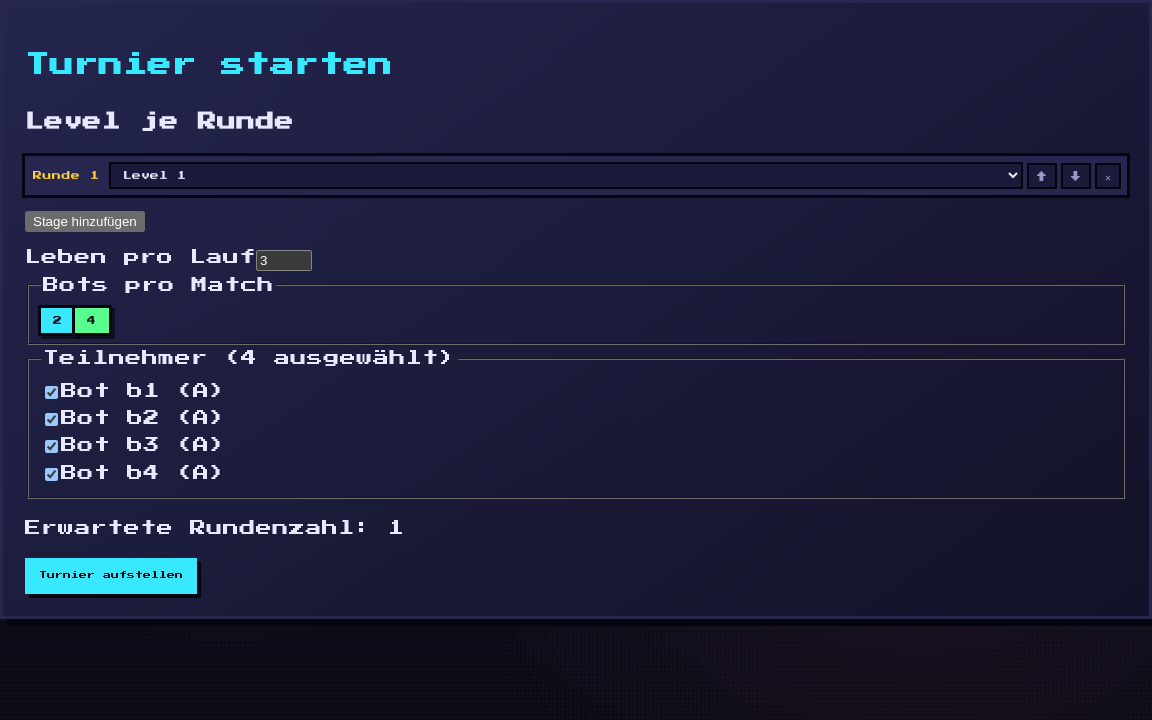
Scenario: TournamentSetup › updates the expected round count when the group size changes
The width and height of the screenshot is (1152, 720).
Click the button "2". click: [58, 321]
box: [41, 308, 75, 333]
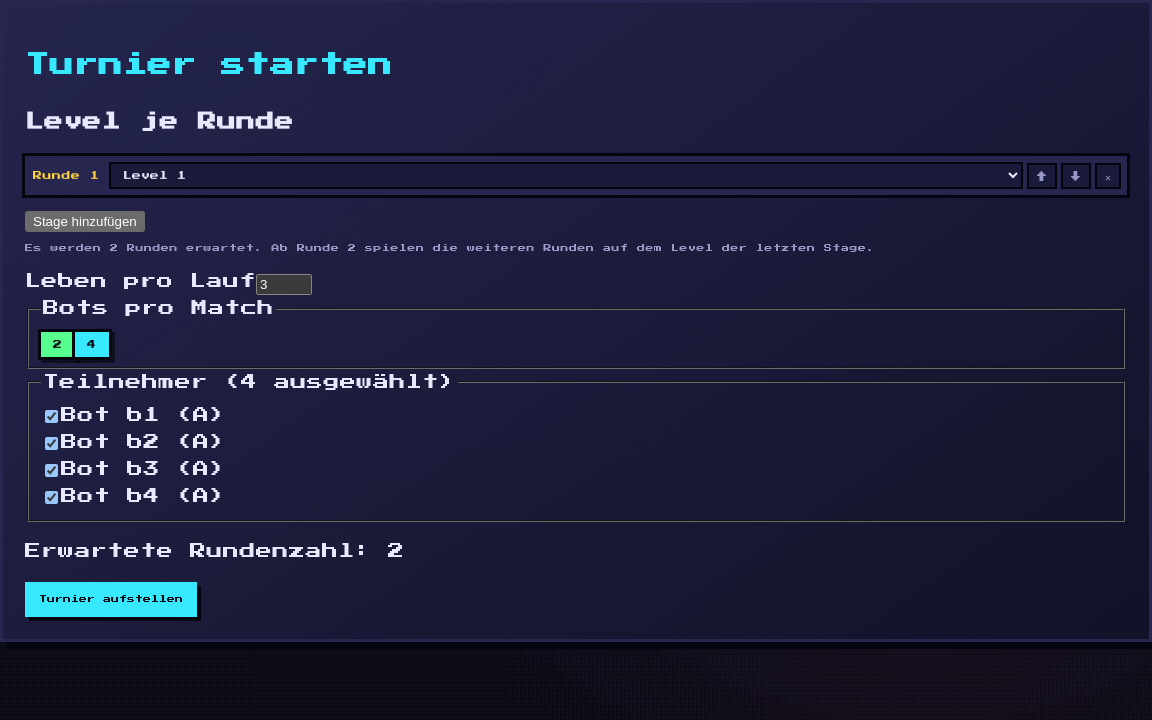
expect the text "Erwartete Rundenzahl: 2" is shown: met, box [25, 543, 404, 559]
